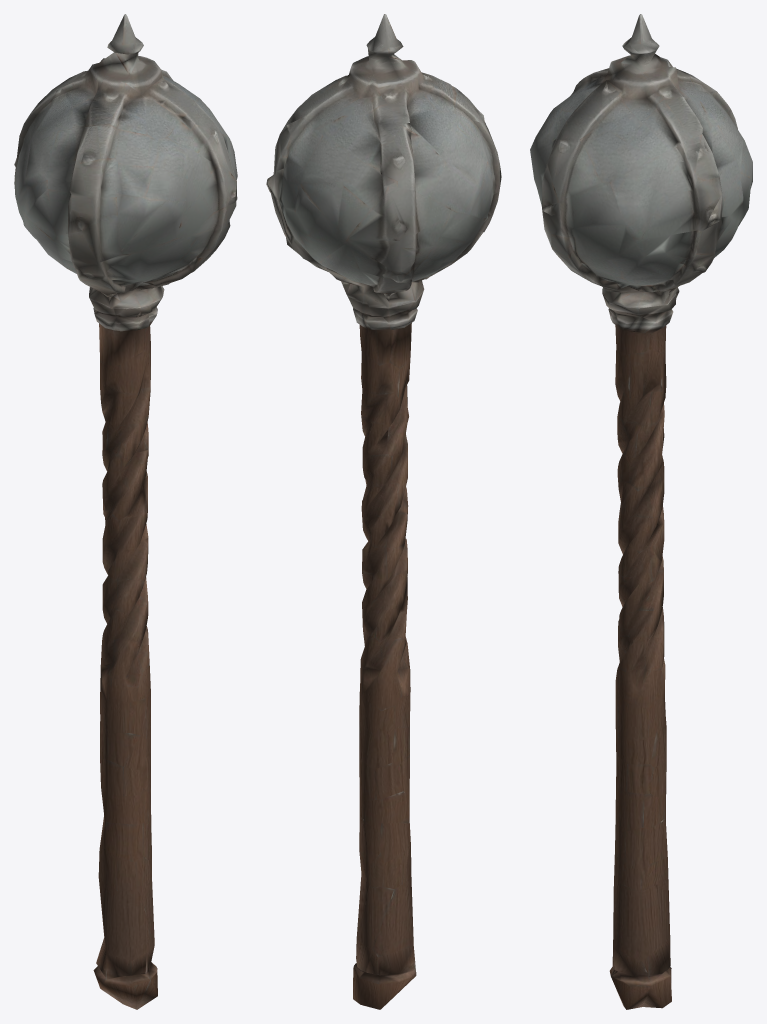
The model's file is 1494_club.glb.
3 views of the same model, side by side, from view 1: azimuth 30°, elevation 25°; view 2: azimuth 150°, elevation 25°; view 3: azimuth 270°, elevation 25° (orthographic).
Visible parts, largest first — view 1: Model; view 2: Model; view 3: Model.
Part boxes in pixels (x1,y1,x2,y2): Model: (14, 14, 237, 1009); Model: (266, 14, 501, 1009); Model: (530, 14, 752, 1009).
Size of the model in its own units: 0.2107 by 1 by 0.2039.
1 material, 1 textured.
